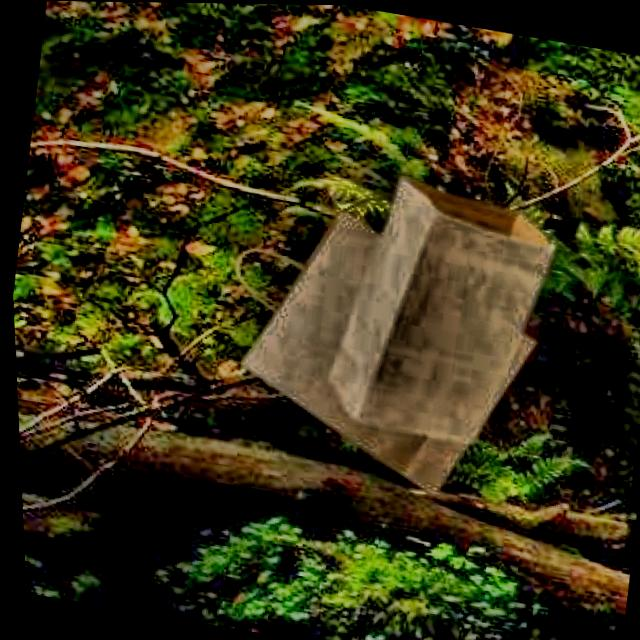Paper-bag: (196, 186, 559, 516), (312, 156, 561, 462)
